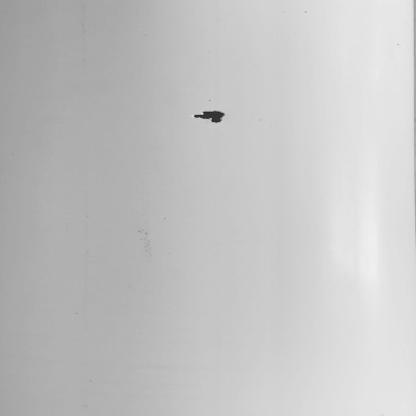kongdong: (189, 105, 231, 127)
